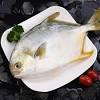Ikan Bawal: (6, 9, 100, 80)
